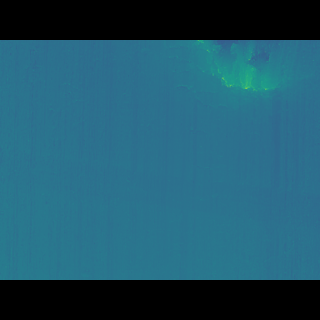Loch: (168, 69, 305, 152)
